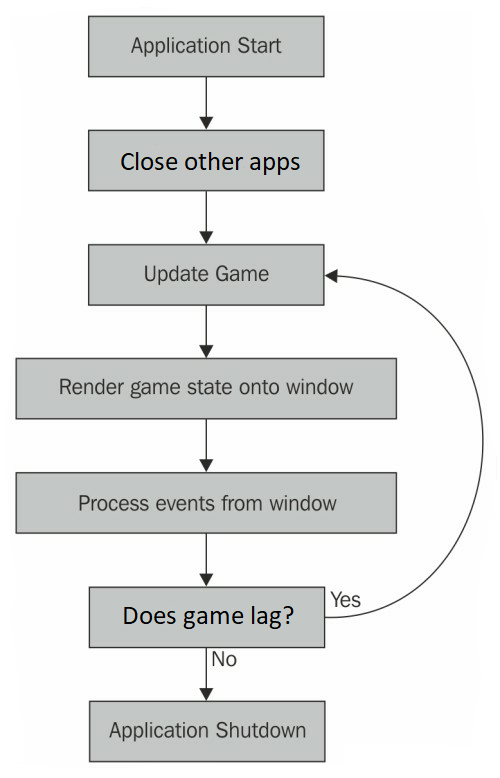arrow: (317, 267, 489, 621), (195, 641, 221, 705), (192, 416, 221, 471), (193, 190, 216, 246), (195, 305, 215, 357), (197, 76, 216, 129), (196, 533, 215, 584)
process: (9, 353, 402, 426), (11, 467, 403, 538), (85, 241, 331, 314), (82, 582, 331, 651), (84, 12, 329, 81), (84, 124, 328, 193), (85, 697, 331, 765)
text: (56, 371, 358, 400), (77, 490, 342, 518), (105, 715, 309, 744), (118, 146, 302, 176), (121, 604, 297, 631), (129, 34, 286, 59), (139, 259, 270, 285), (326, 587, 368, 613), (209, 644, 239, 670)
